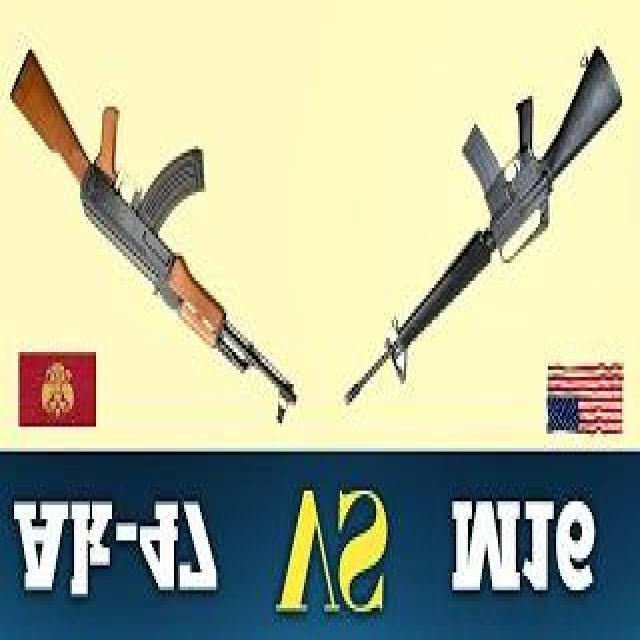weapon: (8, 48, 298, 426), (343, 43, 622, 406)
